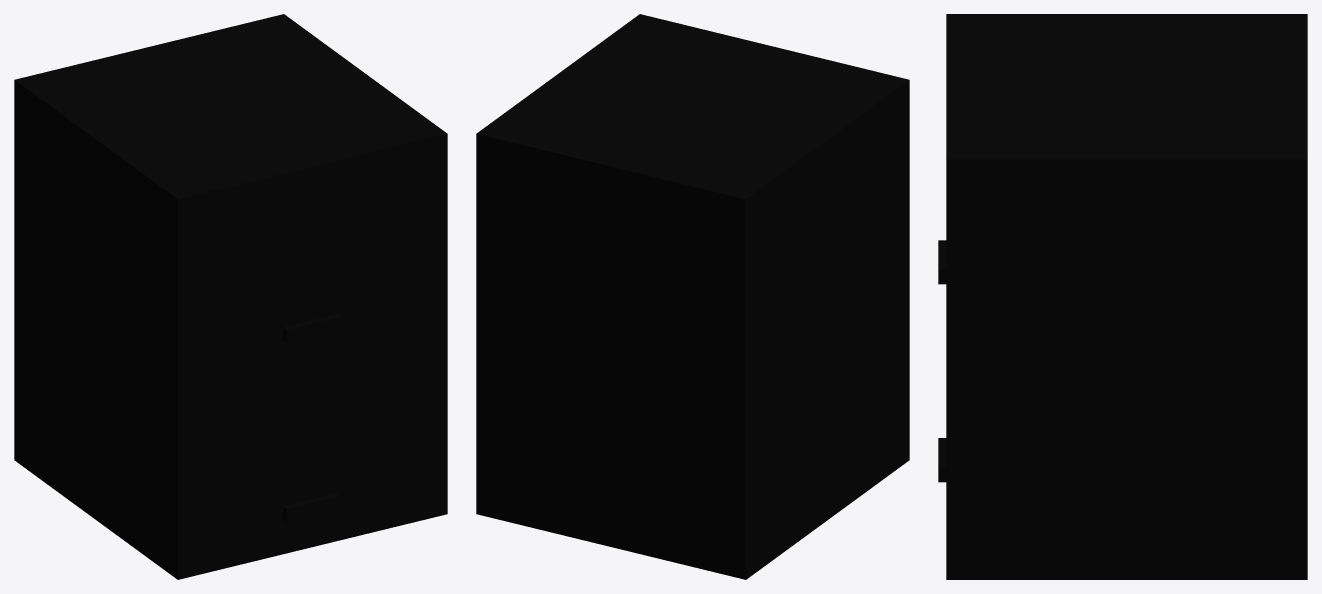
File: FreeStandingKitchenCupboardC.fbx
The picture shows the model from 3 angles, left to right: view 1: azimuth 30°, elevation 25°; view 2: azimuth 150°, elevation 25°; view 3: azimuth 270°, elevation 25°; orthographic projection. The views are drawn at different scales.
Visible parts, largest first — view 1: node_id5; view 2: node_id5; view 3: node_id5.
Boxes of the visible parts, box(x1,y1,x2,y2) form: node_id5: box(14, 14, 447, 579); node_id5: box(476, 14, 909, 579); node_id5: box(938, 14, 1307, 579).
Bounding box in the file's own units: 0.3796 × 0.512 × 0.4076.
1 material, 1 textured.
